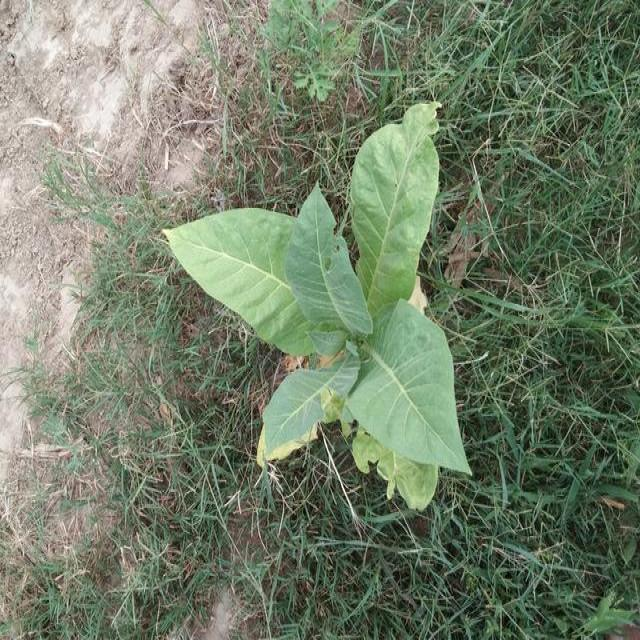crop: (162, 92, 478, 508)
